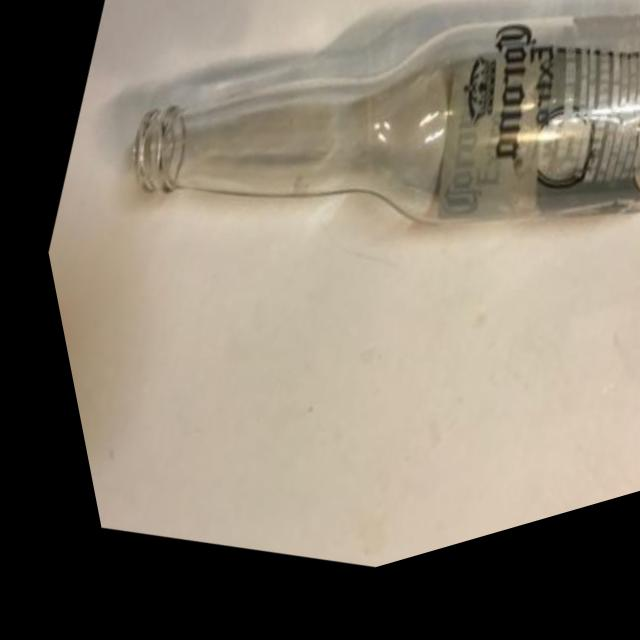glass: (22, 0, 640, 533)
